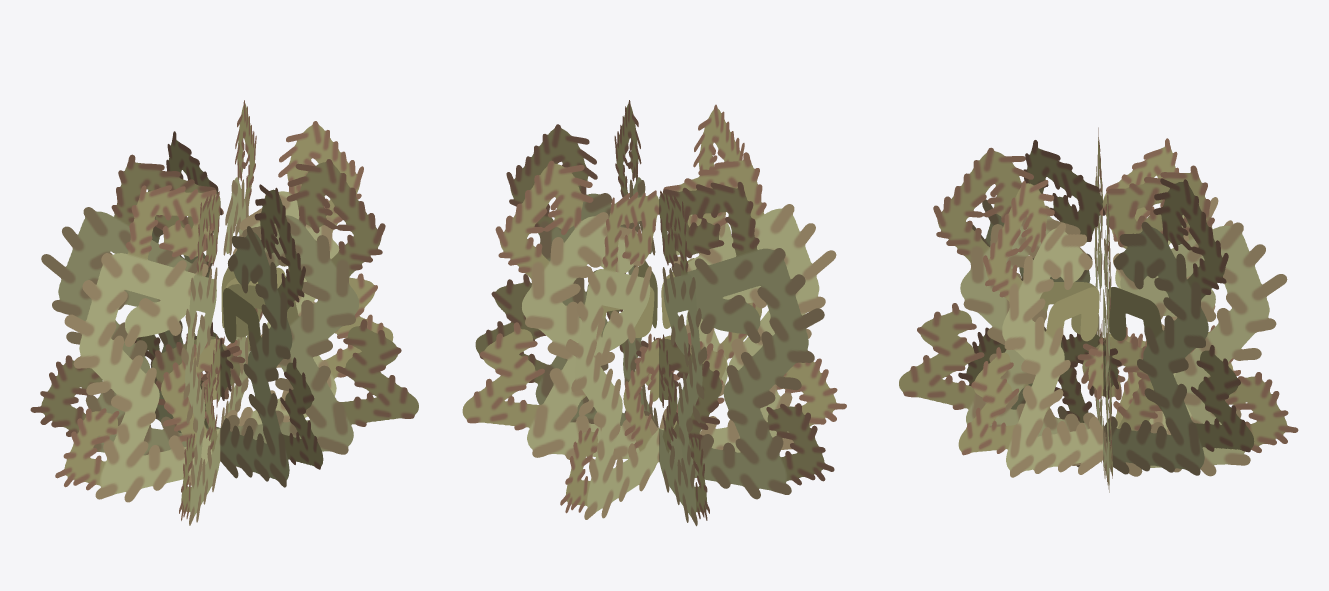
The model's file is thorns.fbx.
The picture shows the model from 3 angles, left to right: view 1: azimuth 30°, elevation 25°; view 2: azimuth 150°, elevation 25°; view 3: azimuth 270°, elevation 25°; orthographic projection.
Parts seen in each view (by area): view 1: pPlane5; view 2: pPlane5; view 3: pPlane5.
Boxes of the visible parts, box(x1,y1,x2,y2) form: pPlane5: box(30, 100, 418, 525); pPlane5: box(462, 100, 846, 526); pPlane5: box(899, 127, 1298, 492).
Size of the model in its own units: 156 by 156 by 156.
1 material, 1 textured.
